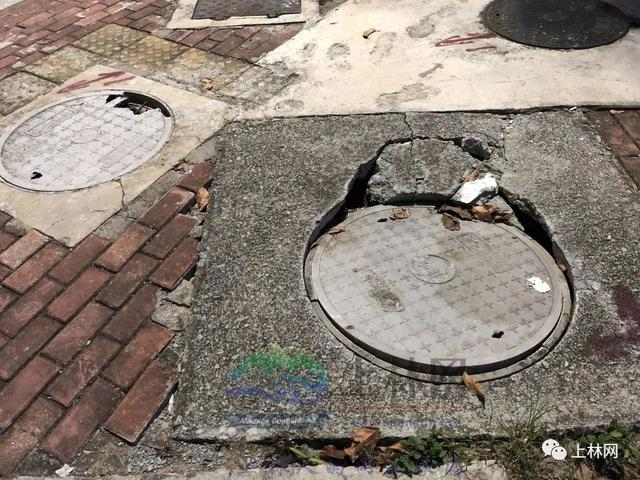circle: (162, 95, 637, 443)
